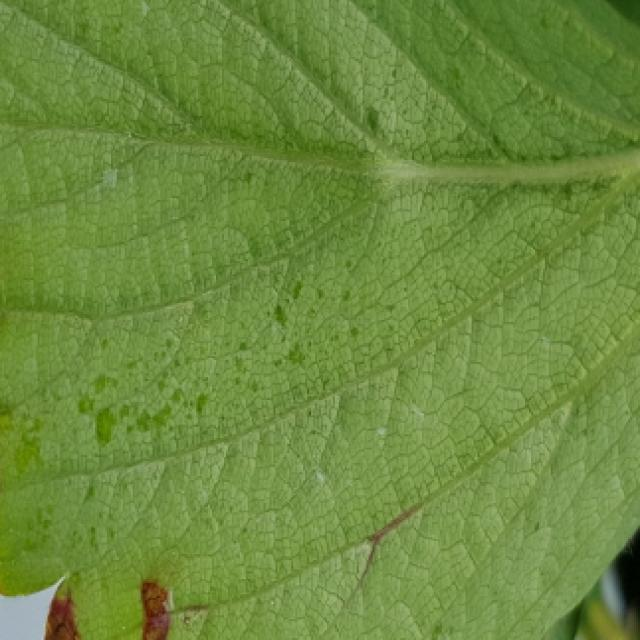Angular Leafspot: (0, 0, 640, 640)
